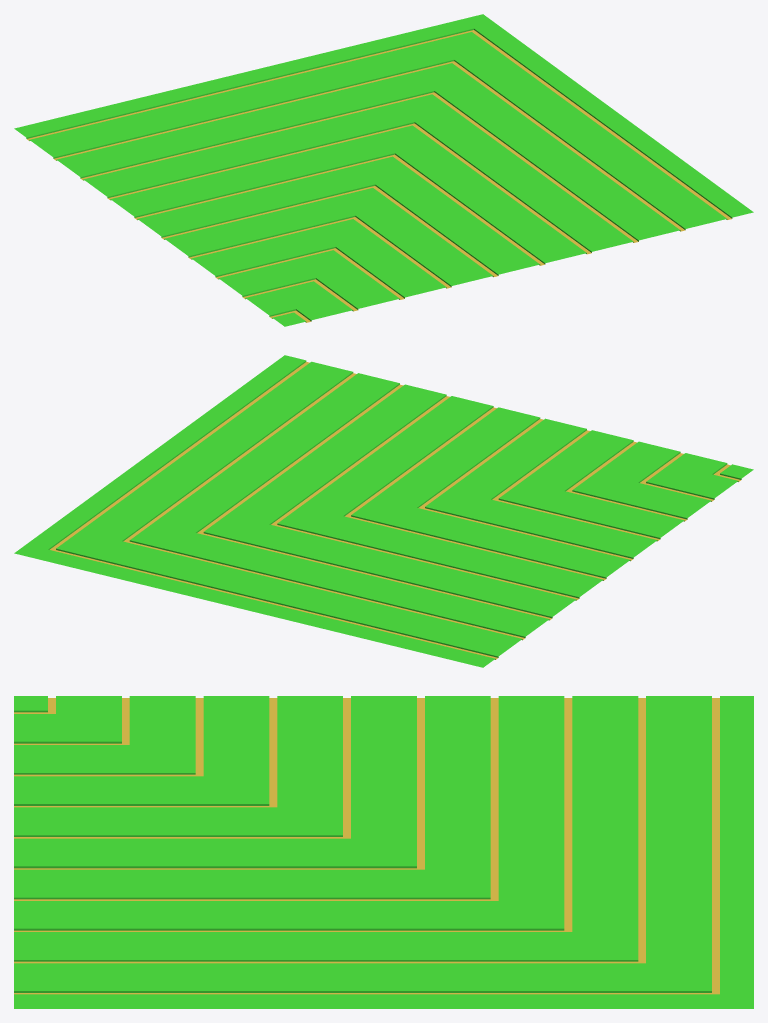
The model's file is Floor_014_Corner.fbx.
3 views of the same model, one above another, from view 1: azimuth 30°, elevation 25°; view 2: azimuth 150°, elevation 25°; view 3: azimuth 270°, elevation 25° (orthographic). The views are drawn at different scales.
Parts seen in each view (by area): view 1: Floor_014_Corner; view 2: Floor_014_Corner; view 3: Floor_014_Corner.
Part boxes in pixels (left/top/right/bottom): Floor_014_Corner: left=14, top=14, right=753, bottom=326; Floor_014_Corner: left=14, top=355, right=753, bottom=667; Floor_014_Corner: left=14, top=696, right=753, bottom=1008.
Size of the model in its own units: 457 by 1.27 by 457.
